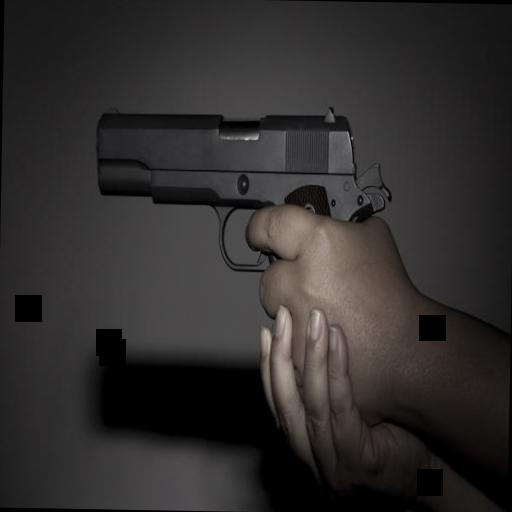Handgun: (92, 98, 392, 290)
